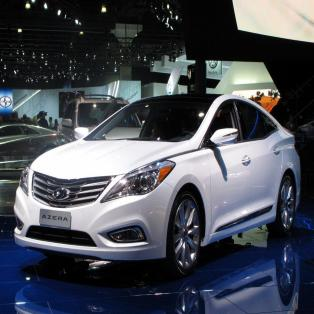Auto: (11, 90, 303, 280)
